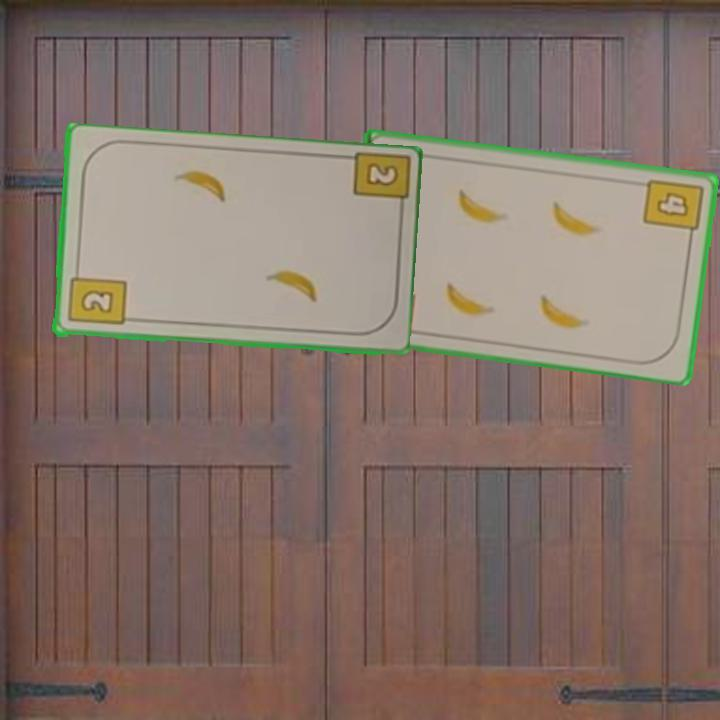2b: (64, 264, 128, 329), (348, 151, 409, 219)
4b: (640, 174, 706, 244)
